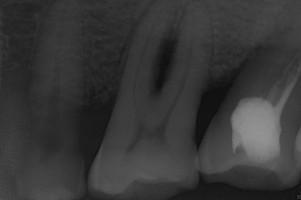Endo-Periodontal Lesion: (152, 39, 178, 93)
